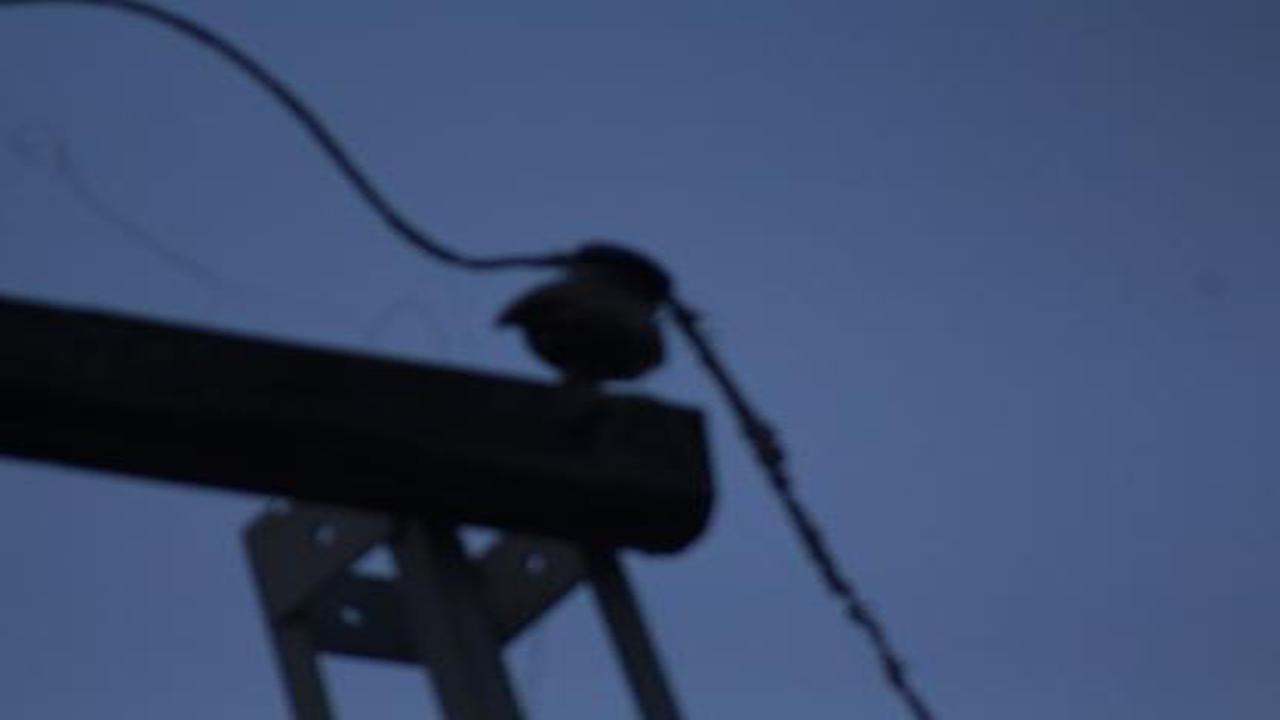defect_pin: (490, 223, 680, 389)
